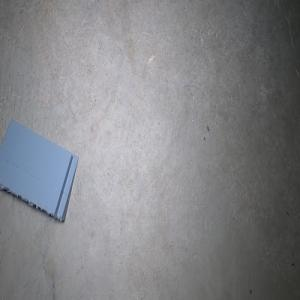PlasticPart: (0, 119, 78, 222)
